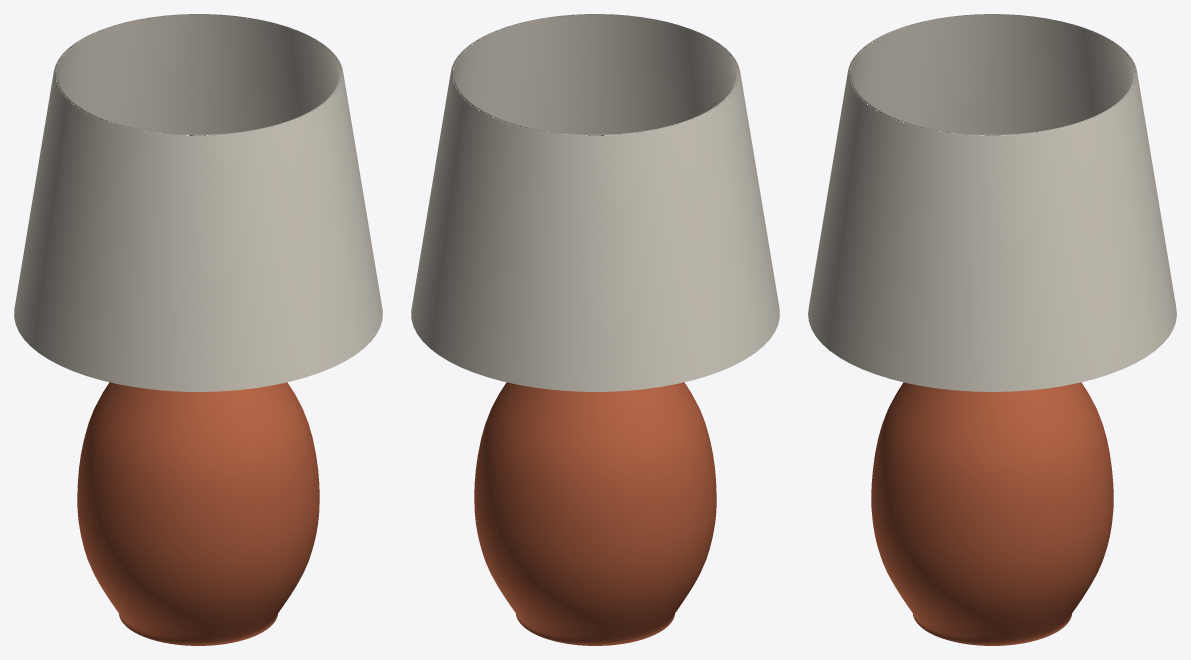
Rendered from terracotta.glb.
3 views of the same model, side by side, from view 1: azimuth 30°, elevation 25°; view 2: azimuth 150°, elevation 25°; view 3: azimuth 270°, elevation 25° (orthographic).
Parts seen in each view (by area): view 1: Shade, Base; view 2: Shade, Base; view 3: Shade, Base.
Boxes of the visible parts, left/top/right/bottom form: Shade: left=14, top=14, right=382, bottom=391; Base: left=77, top=382, right=319, bottom=645; Shade: left=411, top=14, right=779, bottom=391; Base: left=474, top=382, right=716, bottom=645; Shade: left=808, top=14, right=1176, bottom=391; Base: left=871, top=382, right=1113, bottom=645.
Bounding box in the file's own units: 0.28 × 0.45 × 0.28.
